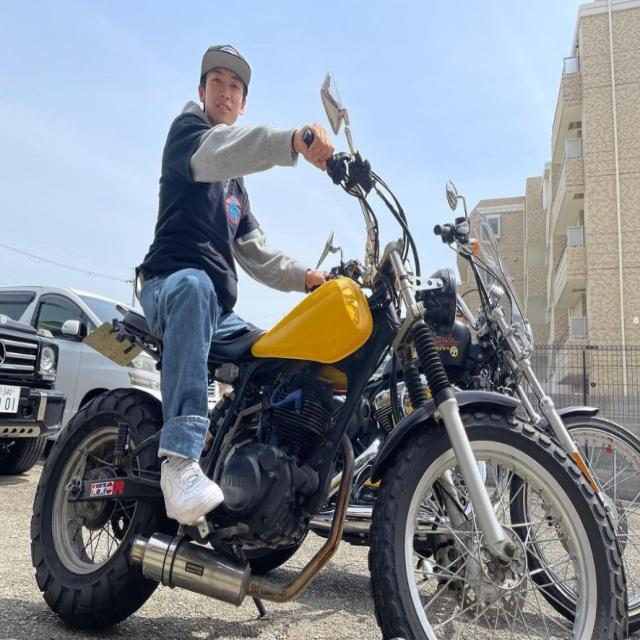illegal_helmet: (196, 40, 254, 130)
